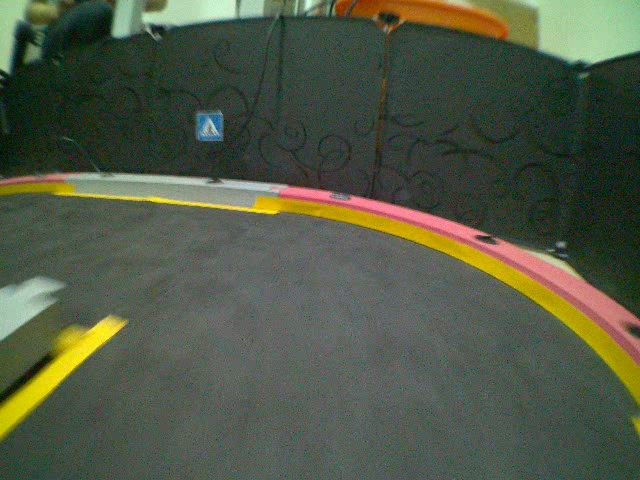crossing: (195, 110, 222, 140)
